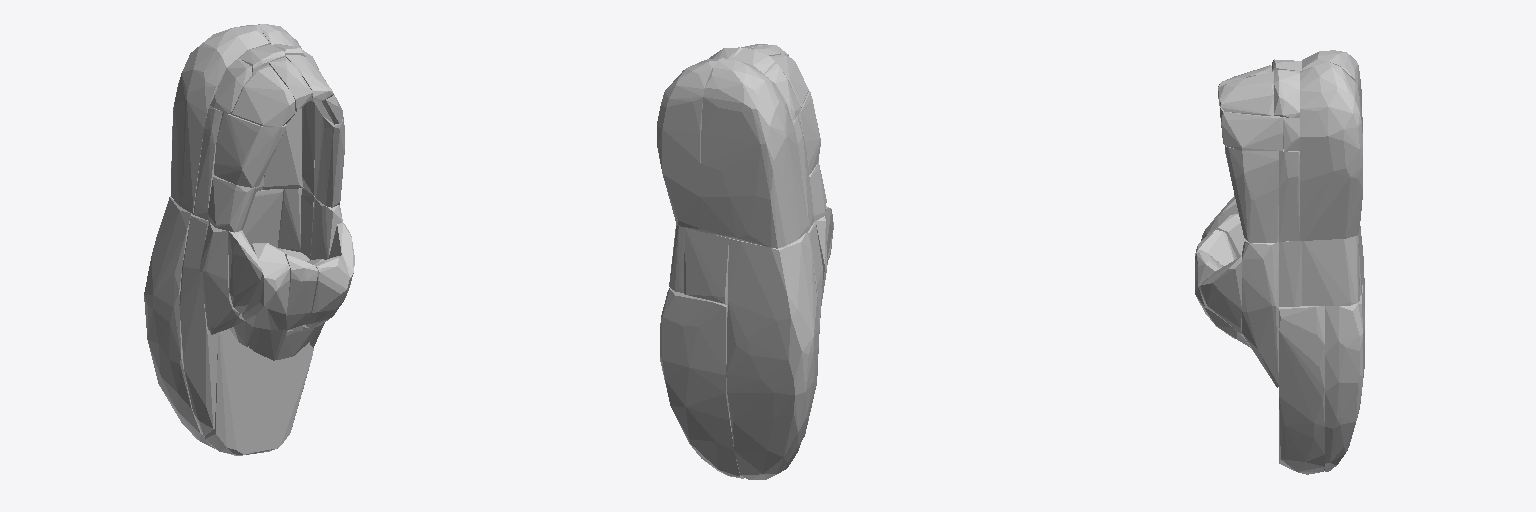
Rendered from model_NrwvyDPIlTf_vhacd.obj.
3 views of the same model, side by side, from view 1: azimuth 30°, elevation 25°; view 2: azimuth 150°, elevation 25°; view 3: azimuth 270°, elevation 25° (orthographic).
Parts seen in each view (by area): view 1: convex_2, convex_0, convex_3, convex_4, convex_6, convex_26, convex_20, convex_8, convex_29, convex_1, convex_14, convex_19 (+17 smaller); view 2: convex_2, convex_0, convex_5, convex_1, convex_7, convex_26, convex_15, convex_12, convex_29, convex_27, convex_3, convex_25 (+1 smaller); view 3: convex_1, convex_6, convex_5, convex_10, convex_14, convex_15, convex_32, convex_11, convex_34, convex_13, convex_16, convex_33 (+5 smaller).
Boxes of the visible parts, x1,y1,x2,y2 form: convex_2: [144, 196, 214, 448]; convex_0: [171, 25, 269, 213]; convex_3: [179, 213, 217, 435]; convex_4: [205, 329, 255, 455]; convex_6: [255, 248, 313, 453]; convex_26: [214, 112, 286, 187]; convex_20: [242, 243, 289, 329]; convex_8: [200, 222, 239, 334]; convex_29: [231, 64, 294, 126]; convex_1: [258, 24, 303, 189]; convex_14: [314, 105, 344, 207]; convex_19: [228, 230, 262, 313]; convex_2: [726, 233, 819, 479]; convex_0: [700, 58, 808, 248]; convex_5: [660, 288, 743, 478]; convex_1: [657, 58, 725, 231]; convex_7: [684, 228, 728, 304]; convex_26: [799, 91, 820, 174]; convex_15: [669, 224, 684, 292]; convex_12: [792, 114, 813, 229]; convex_29: [770, 54, 808, 107]; convex_27: [764, 64, 800, 120]; convex_3: [803, 221, 822, 437]; convex_25: [809, 161, 826, 221]; convex_1: [1300, 62, 1362, 240]; convex_6: [1279, 306, 1324, 474]; convex_5: [1325, 279, 1364, 471]; convex_10: [1242, 241, 1278, 387]; convex_14: [1225, 146, 1278, 242]; convex_15: [1302, 235, 1359, 305]; convex_32: [1220, 107, 1282, 150]; convex_11: [1198, 256, 1241, 333]; convex_34: [1218, 71, 1273, 115]; convex_13: [1279, 149, 1299, 241]; convex_16: [1279, 241, 1301, 306]; convex_33: [1274, 70, 1299, 117].
Bounding box in the file's own units: 0.1108 × 0.294 × 0.1097.